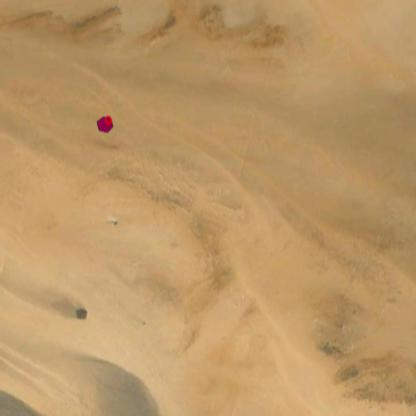0: (104, 115, 113, 124)
hexagon: (95, 113, 114, 135)
